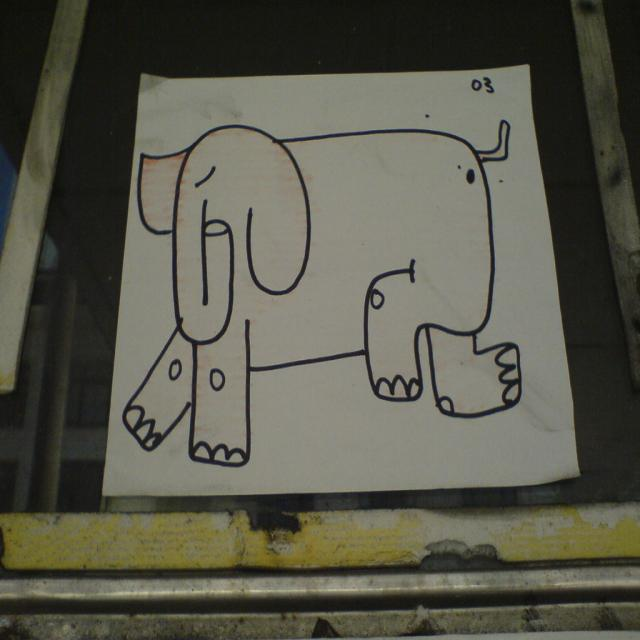elephant: (121, 123, 509, 467), (121, 123, 509, 467)
